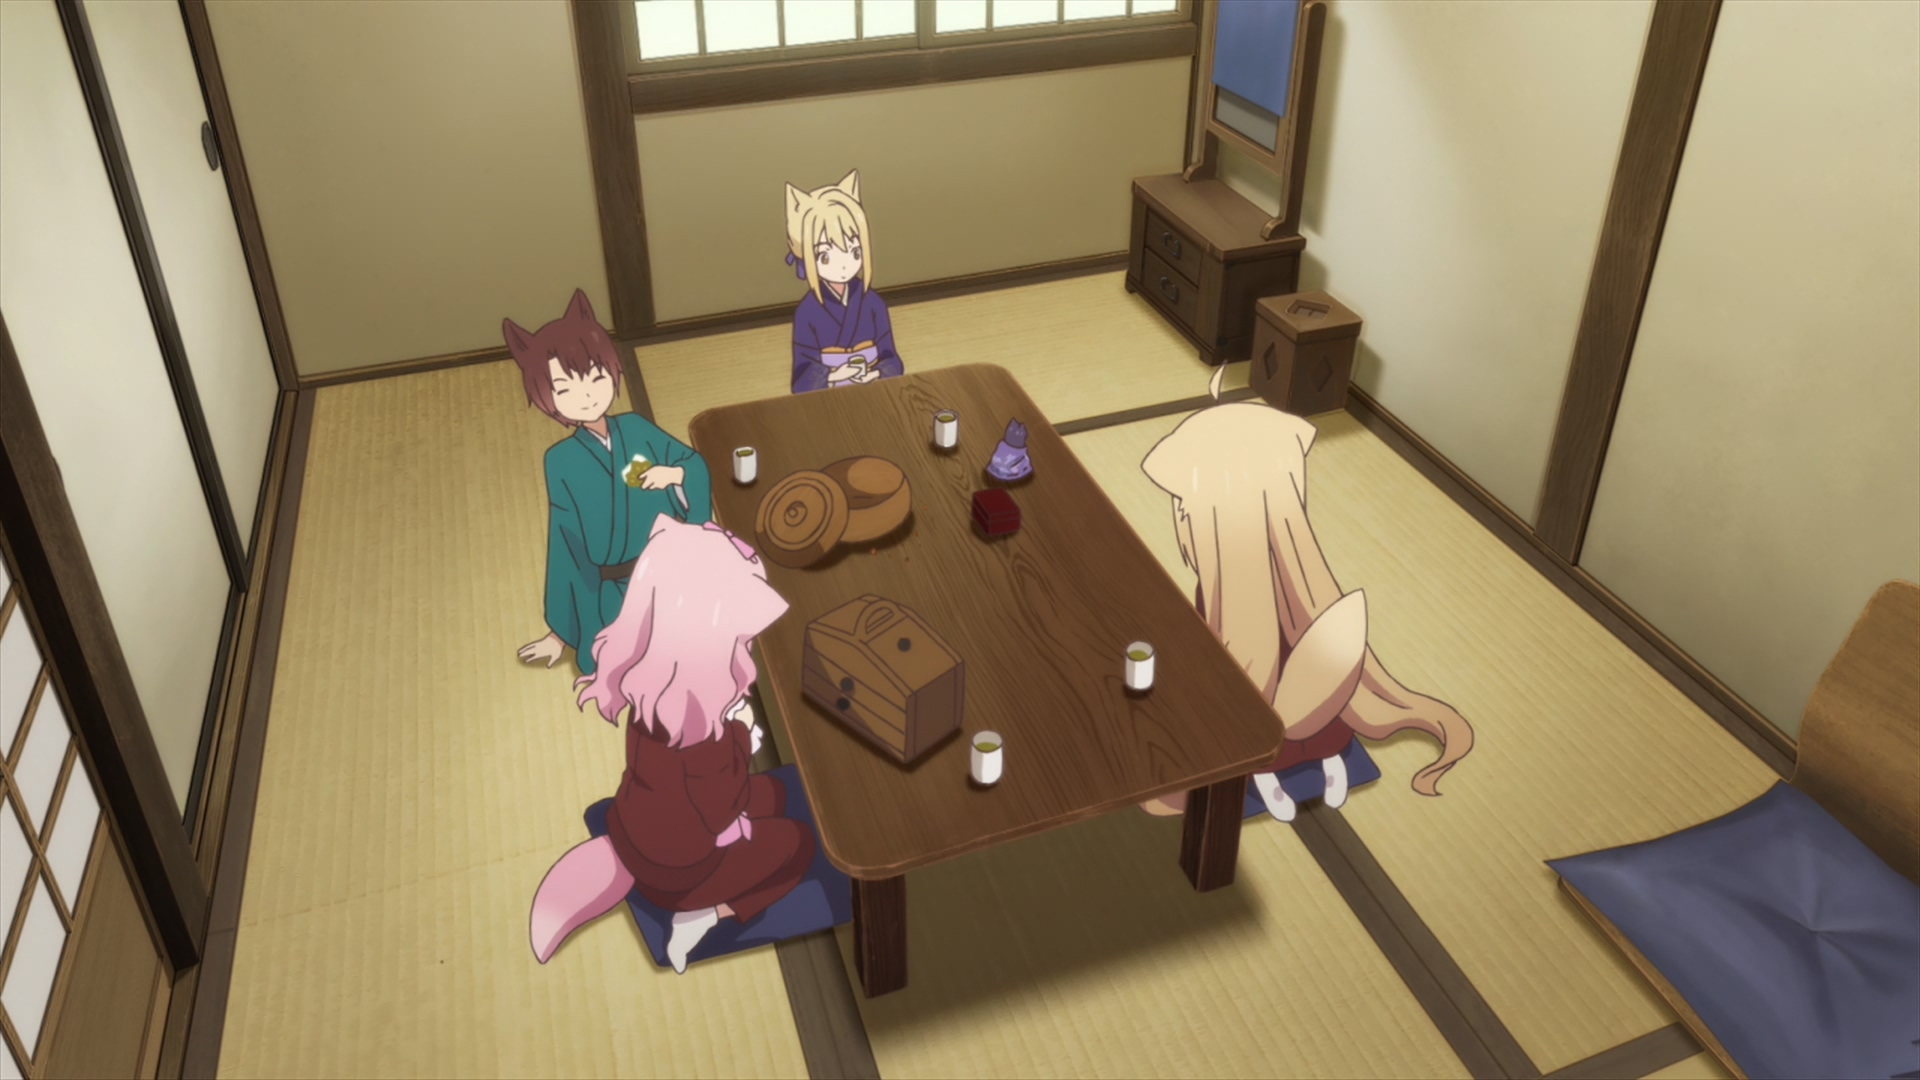枣: (501, 290, 713, 678)
柚: (1141, 361, 1478, 819)
桐: (785, 167, 905, 394)
皋: (985, 419, 1035, 480)
莲: (529, 516, 819, 976)
